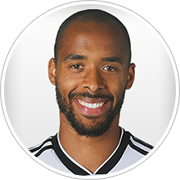smile: (74, 95, 110, 113)
